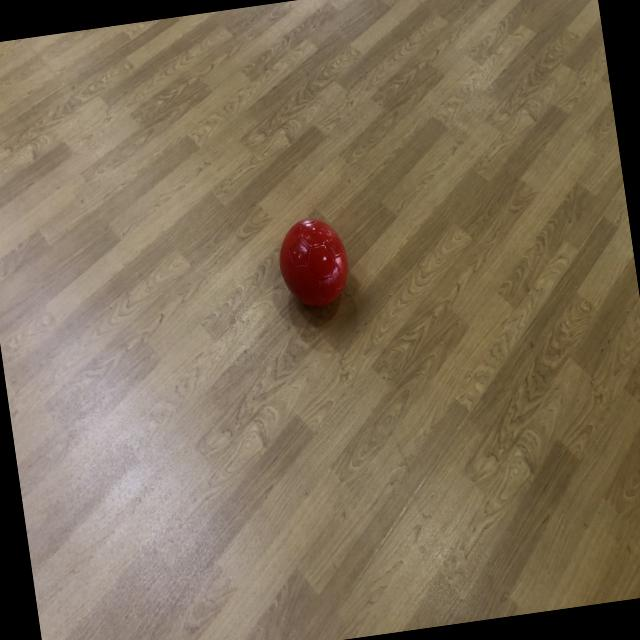red_ball: (274, 210, 354, 316)
